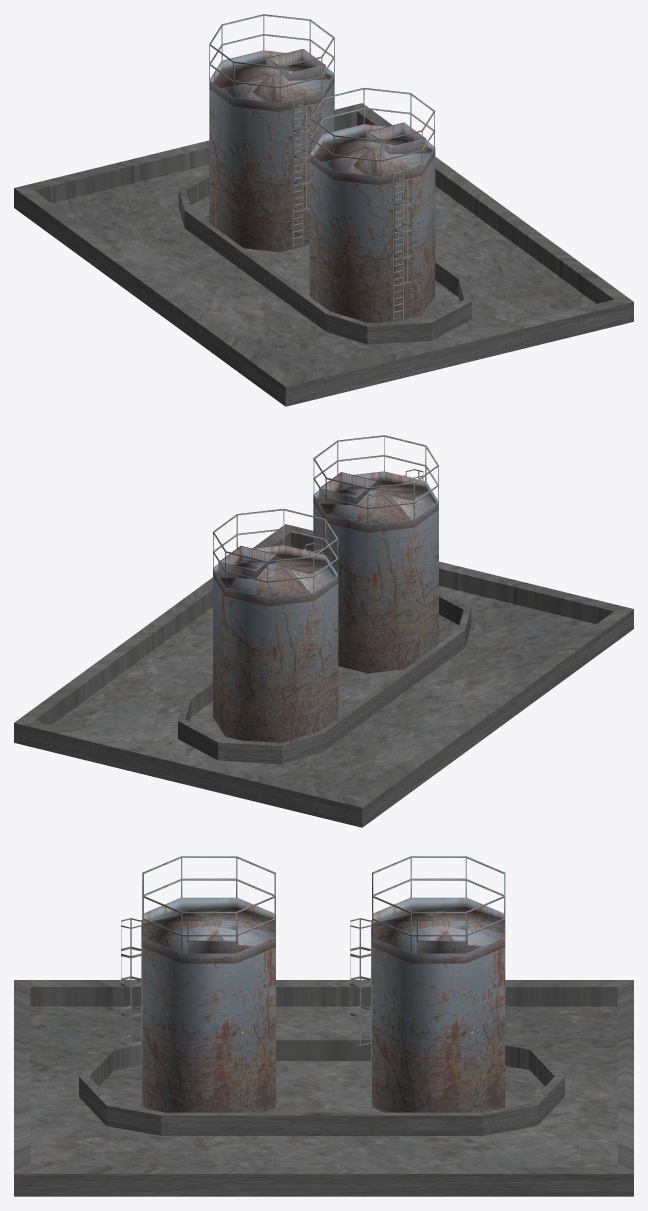
Rendered from changfang09.gltf.
3 renders of one model, top to bottom at view 1: azimuth 30°, elevation 25°; view 2: azimuth 150°, elevation 25°; view 3: azimuth 270°, elevation 25°, orthographic. The views are drawn at different scales.
Parts seen in each view (by area): view 1: changfang09_25, changfang09_4, changfang09_11, changfang09_30; view 2: changfang09_25, changfang09_11, changfang09_4, changfang09_30; view 3: changfang09_25, changfang09_4, changfang09_11, changfang09_30.
Boxes of the visible parts, x1=… form: changfang09_25: x1=14, y1=103, x2=633, y2=406; changfang09_4: x1=309, y1=88, x2=435, y2=323; changfang09_11: x1=209, y1=14, x2=334, y2=252; changfang09_30: x1=178, y1=172, x2=471, y2=344; changfang09_25: x1=14, y1=524, x2=633, y2=827; changfang09_11: x1=213, y1=508, x2=338, y2=742; changfang09_4: x1=313, y1=435, x2=438, y2=673; changfang09_30: x1=178, y1=591, x2=471, y2=764; changfang09_25: x1=14, y1=980, x2=633, y2=1196; changfang09_4: x1=142, y1=856, x2=275, y2=1112; changfang09_11: x1=372, y1=856, x2=505, y2=1112; changfang09_30: x1=79, y1=1037, x2=564, y2=1135.
Bounding box in the file's own units: 163 × 83.97 × 220.
3 materials, 3 textured.
